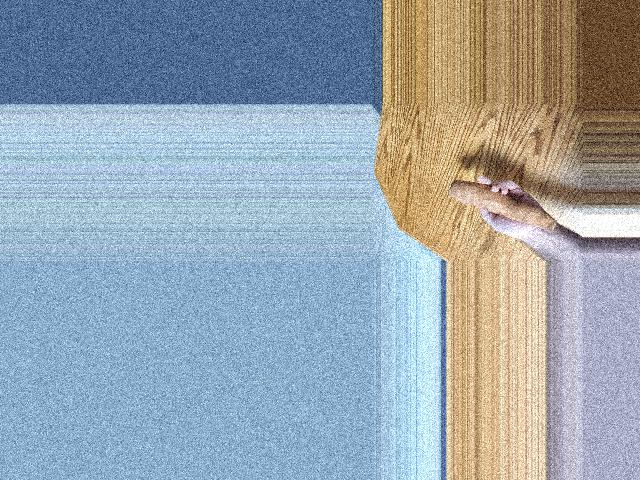sweet_potato: (447, 178, 557, 233)
